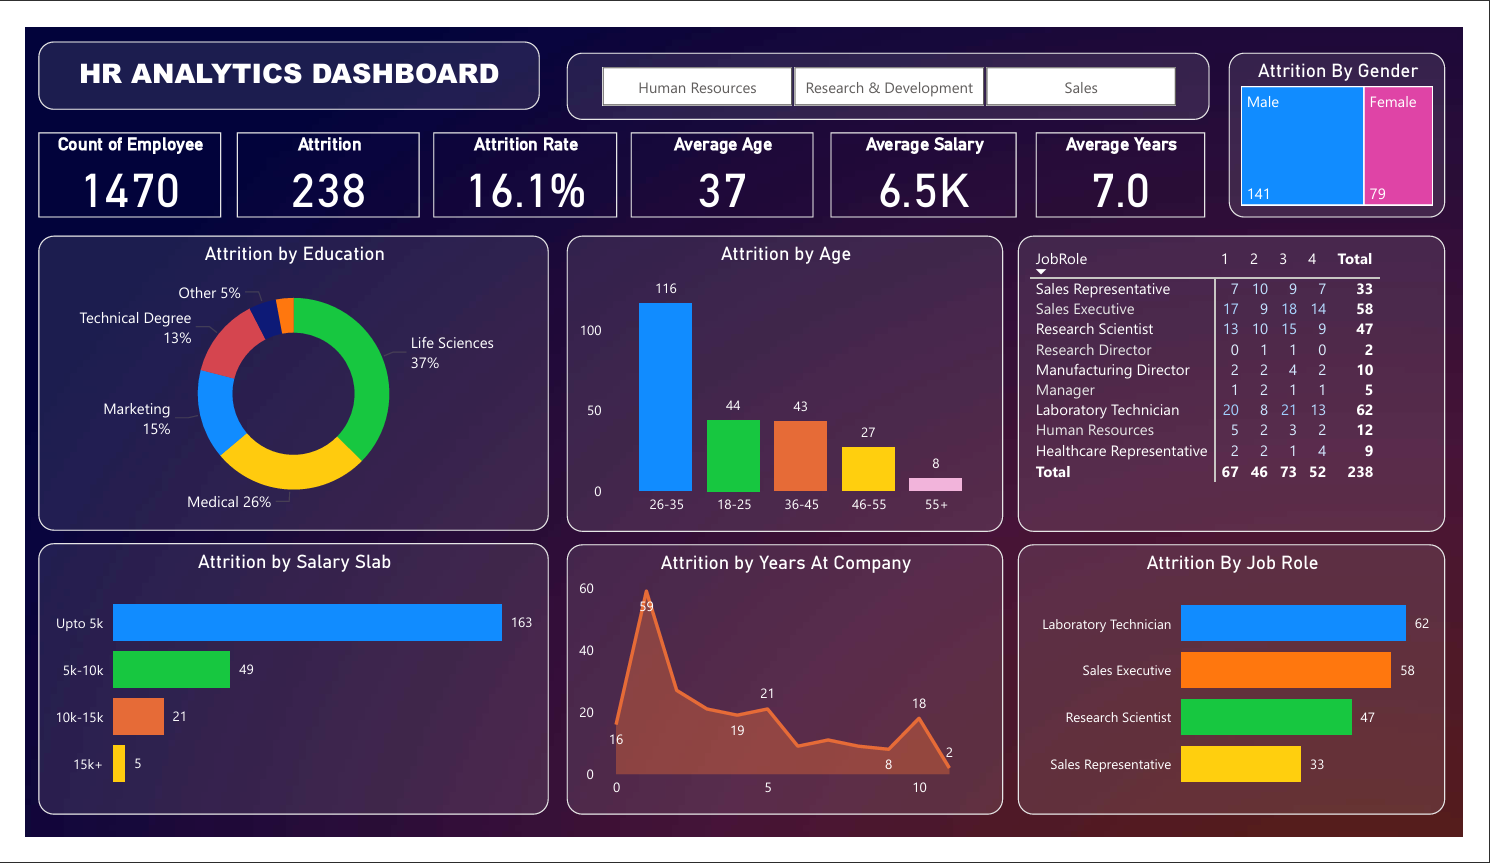

Layout of this report page (visuals, bound fields, positions):
{"tool":"powerbi","page":{"name":"Page 1","canvas":[1280,720],"ordinal":0},"visuals":[{"type":"card","title":"Count of Employee","fields":{"Values":["Count(HR_Analytics_PowerBI_Ready.EmpID)"]},"box":[10.7,93,163.3,75.5],"z":0},{"type":"card","title":"Attrition","fields":{"Values":["Sum(HR_Analytics_PowerBI_Ready.AttertionCount)"]},"box":[187.7,93,163.3,75.5],"z":1000},{"type":"card","title":"Attrition Rate","fields":{"Values":["HR_Analytics_PowerBI_Ready.AttritionRate"]},"box":[363.4,93,163.3,75.5],"z":2000},{"type":"card","title":"Average Age","fields":{"Values":["Avg(HR_Analytics_PowerBI_Ready.Age)"]},"box":[539,93,163.3,75.5],"z":3000},{"type":"card","title":"Average Salary","fields":{"Values":["Avg(HR_Analytics_PowerBI_Ready.MonthlyIncome)"]},"box":[717.4,93,166,75.5],"z":4000},{"type":"card","title":"Average Years","fields":{"Values":["Avg(HR_Analytics_PowerBI_Ready.YearsAtCompany)"]},"box":[899.9,93,150.9,75.5],"z":5000},{"type":"donutChart","title":"Attrition by Education","fields":{"Category":["HR_Analytics_PowerBI_Ready.EducationField"],"Y":["Sum(HR_Analytics_PowerBI_Ready.AttertionCount)"]},"box":[10.7,185,455.6,263.5],"z":6000},{"type":"columnChart","title":"Attrition by Age","fields":{"Category":["HR_Analytics_PowerBI_Ready.AgeGroup"],"Y":["Sum(HR_Analytics_PowerBI_Ready.AttertionCount)"]},"box":[481.6,185.2,389.7,263.5],"z":7000},{"type":"pivotTable","title":"Attrition By Age","fields":{"Rows":["HR_Analytics_PowerBI_Ready.JobRole"],"Values":["Sum(HR_Analytics_PowerBI_Ready.AttertionCount)"],"Columns":["HR_Analytics_PowerBI_Ready.JobSatisfaction"]},"box":[883.7,185.2,381.5,263.5],"z":8000},{"type":"barChart","title":"Attrition by Salary Slab","fields":{"Category":["HR_Analytics_PowerBI_Ready.SalarySlab"],"Y":["Sum(HR_Analytics_PowerBI_Ready.AttertionCount)"]},"box":[10.7,459.4,455.6,241.5],"z":9000},{"type":"barChart","title":"Attrition By Job Role","fields":{"Y":["Sum(HR_Analytics_PowerBI_Ready.AttertionCount)"],"Category":["HR_Analytics_PowerBI_Ready.JobRole"]},"box":[883.7,459.7,381.5,241.5],"z":10000},{"type":"areaChart","title":"Attrition by Years At Company","fields":{"Category":["HR_Analytics_PowerBI_Ready.YearsAtCompany"],"Y":["Sum(HR_Analytics_PowerBI_Ready.AttertionCount)"]},"box":[481.6,459.7,389.7,241.5],"z":11000},{"type":"treemap","title":"Attrition By Gender","fields":{"Group":["HR_Analytics_PowerBI_Ready.Gender"],"Values":["Sum(HR_Analytics_PowerBI_Ready.AttertionCount)"]},"box":[1071.7,22,193.5,146.8],"z":12000},{"type":"slicer","fields":{"Values":["HR_Analytics_PowerBI_Ready.Department"]},"box":[481.6,22,573.6,60.4],"z":13000},{"type":"textbox","box":[11,12.3,447.3,60.4],"z":13001}]}

Visuals, with their boxes in screenshot pixels (x1, y1, x2, y2), scaled from the page's 1280x720 canvas onto the 1490x863 screenshot:
"Count of Employee" card: 12, 111, 203, 202
"Attrition" card: 218, 111, 409, 202
"Attrition Rate" card: 423, 111, 613, 202
"Average Age" card: 627, 111, 818, 202
"Average Salary" card: 835, 111, 1028, 202
"Average Years" card: 1048, 111, 1223, 202
"Attrition by Education" donutChart: 12, 222, 543, 538
"Attrition by Age" columnChart: 561, 222, 1014, 538
"Attrition By Age" pivotTable: 1029, 222, 1473, 538
"Attrition by Salary Slab" barChart: 12, 551, 543, 840
"Attrition By Job Role" barChart: 1029, 551, 1473, 840
"Attrition by Years At Company" areaChart: 561, 551, 1014, 840
"Attrition By Gender" treemap: 1248, 26, 1473, 202
slicer - HR_Analytics_PowerBI_Ready.Department: 561, 26, 1228, 99
textbox: 13, 15, 533, 87
